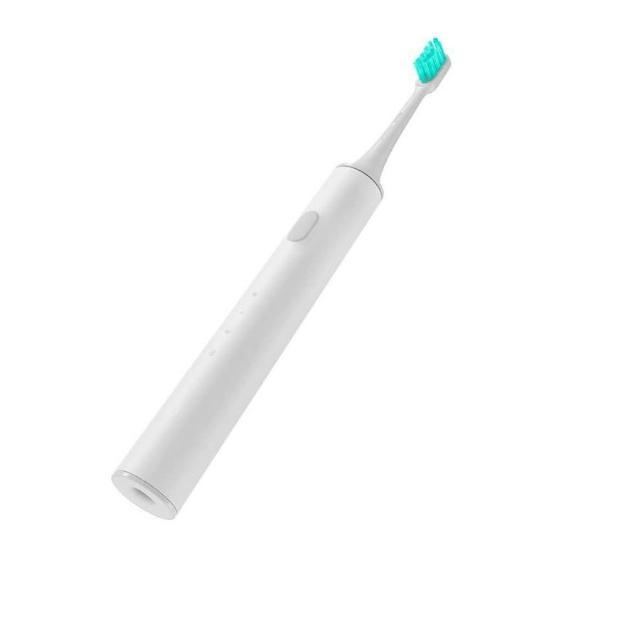toothbrush: (116, 36, 462, 544)
